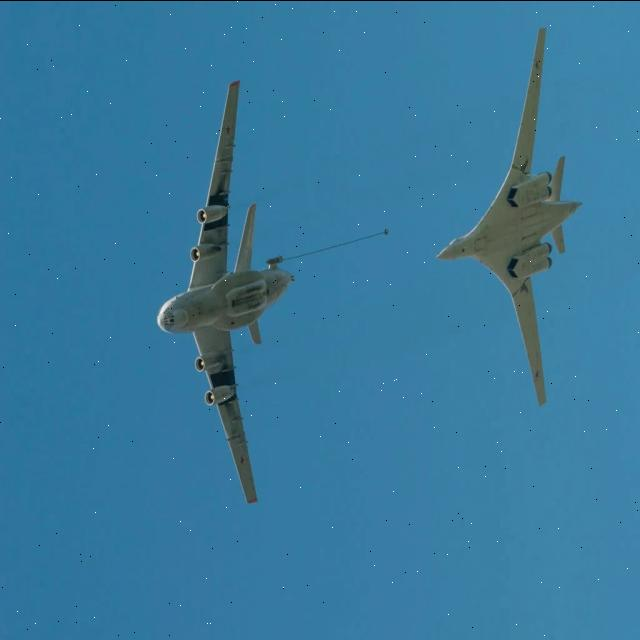Tu160: (120, 22, 380, 552), (412, 0, 640, 469)
